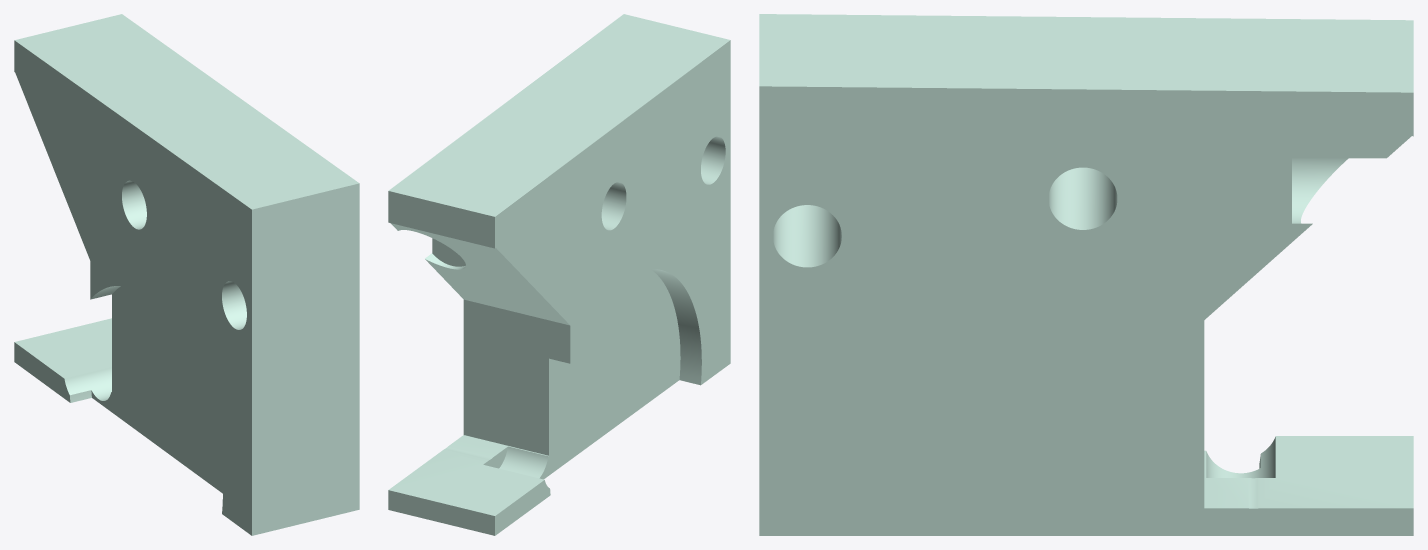
3 renders of one model, left to right at view 1: azimuth 30°, elevation 25°; view 2: azimuth 150°, elevation 25°; view 3: azimuth 270°, elevation 25°, orthographic. The views are drawn at different scales.
Visible parts, largest first — view 1: Renderer Node; view 2: Renderer Node; view 3: Renderer Node.
Boxes of the visible parts, bbox=[...] form: Renderer Node: bbox=[14, 14, 359, 535]; Renderer Node: bbox=[388, 14, 730, 535]; Renderer Node: bbox=[759, 14, 1413, 535].
Size of the model in its own units: 0.3516 by 1.02 by 1.34.
